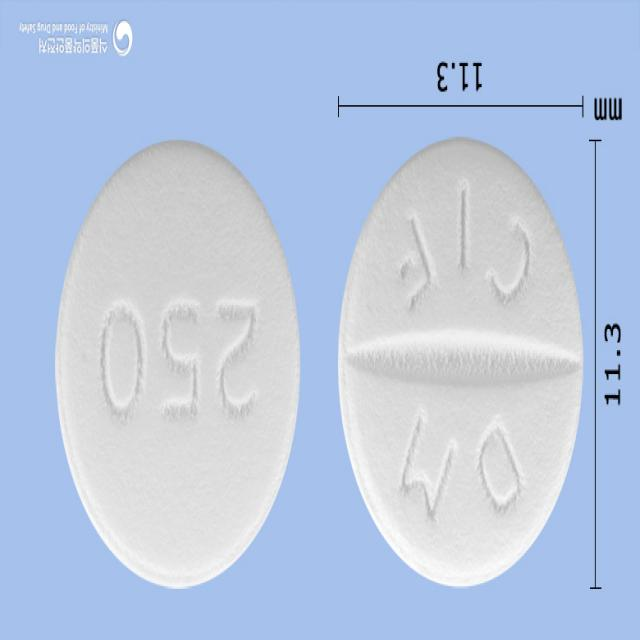Cifxacin: (50, 129, 306, 597), (334, 131, 586, 595)
